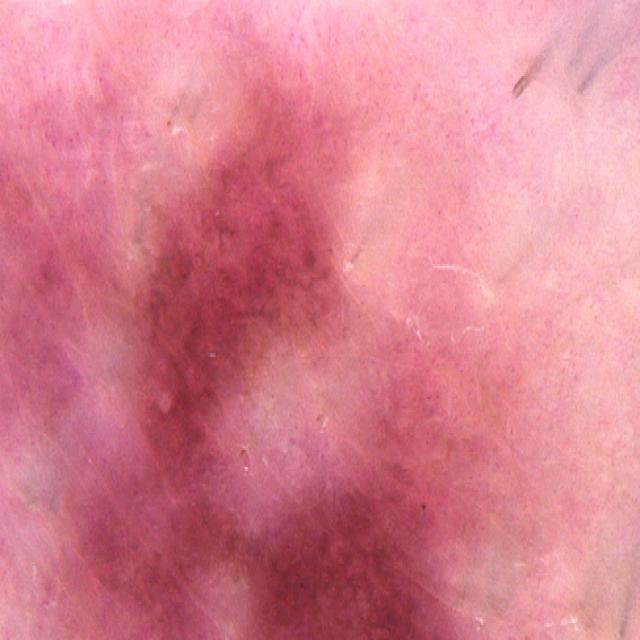Dermatofibroma: (133, 231, 345, 470), (266, 497, 494, 640), (0, 123, 99, 397)
